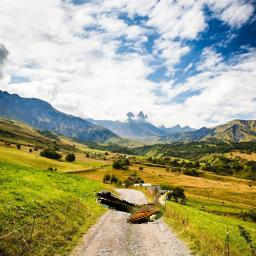Cuckoo: (95, 190, 173, 224)
